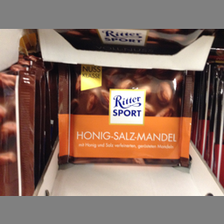chocolate: (56, 64, 196, 170)
